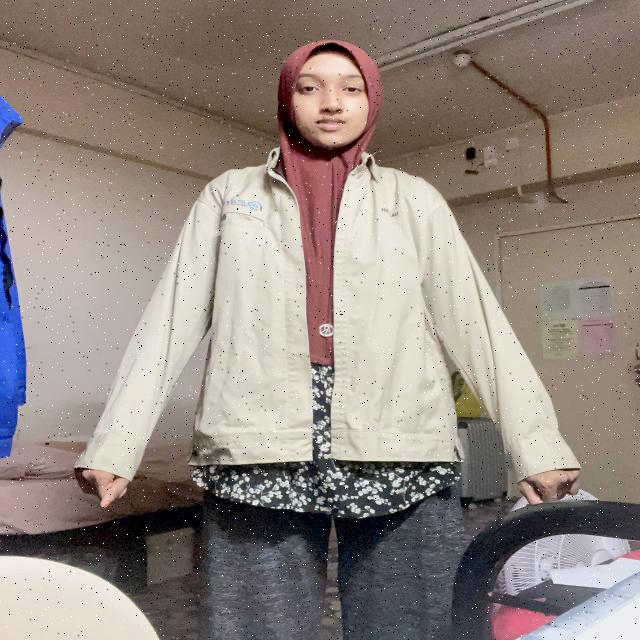person_with_labcoat: (76, 40, 579, 640)
